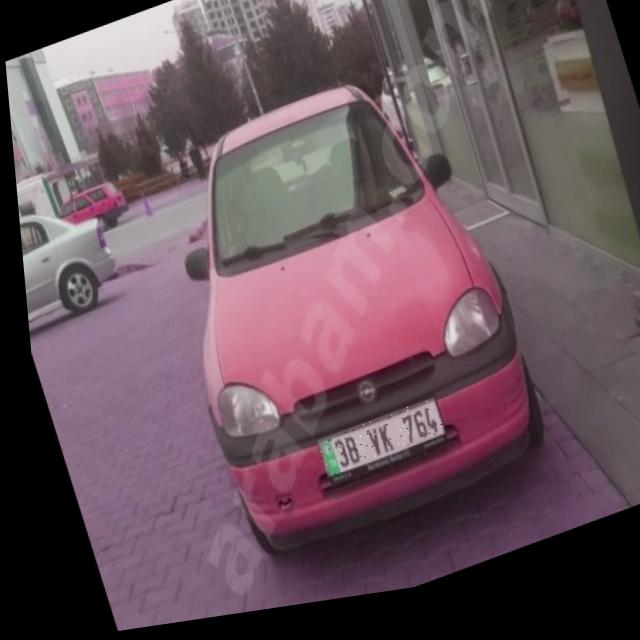license_plate: (305, 408, 438, 487)
